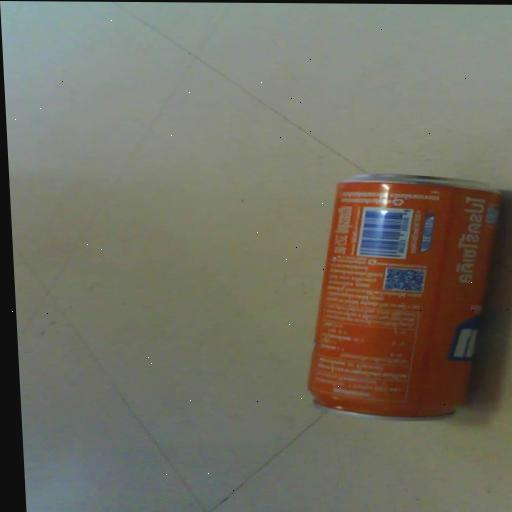canned: (278, 158, 512, 434)
